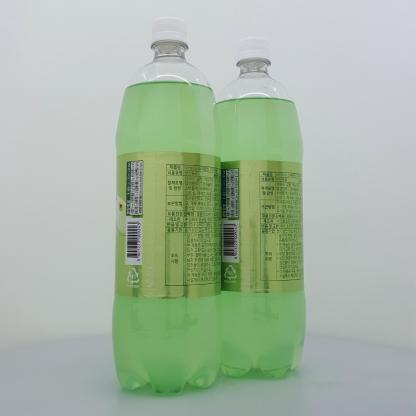----------------: (112, 16, 222, 395), (208, 37, 306, 378)
